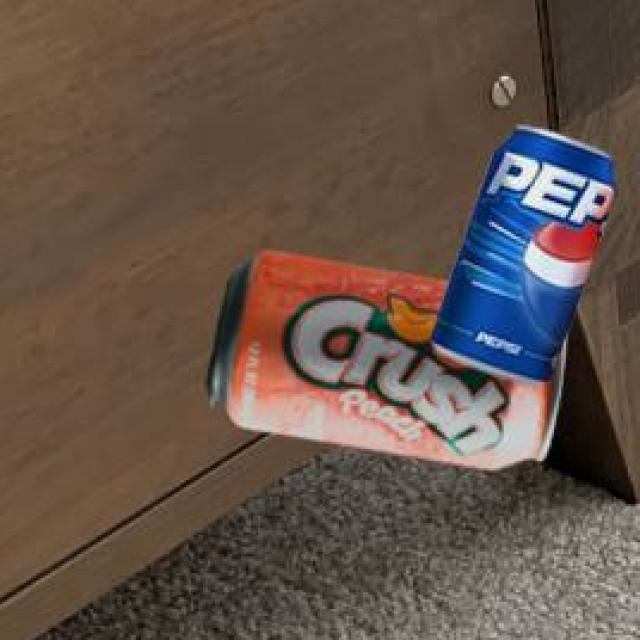logam: (202, 247, 562, 467), (429, 123, 610, 381)
